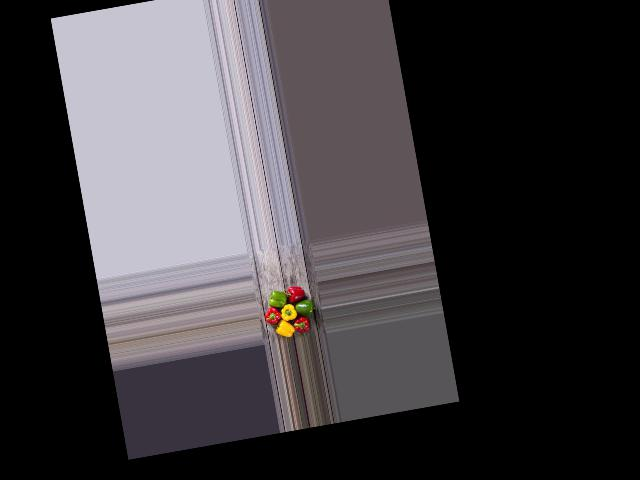bell_pepper: (289, 315, 311, 338)
